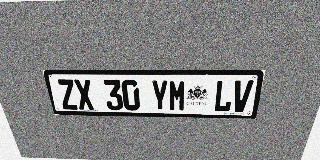0: (121, 80, 140, 111)
3: (103, 79, 123, 110)
L: (213, 80, 235, 112)
M: (169, 80, 186, 111)
V: (231, 80, 254, 112)
X: (73, 79, 95, 110)
Y: (151, 80, 168, 111)
Z: (56, 79, 79, 110)
